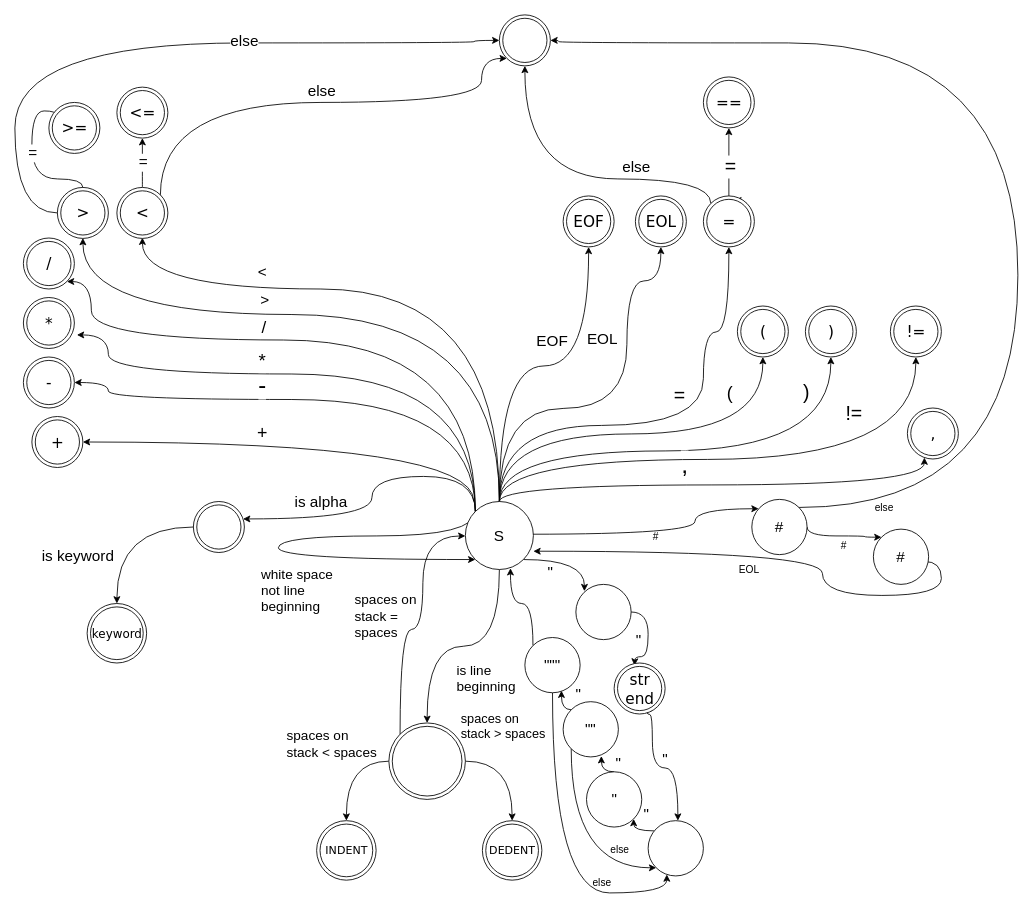
The diagram is 1033 pixels wide and 908 high, and some of its shapes have lost their labels. Each missing label, with the centre of its shape:
"ERROR" goes at pixel 524 40.
"ID" goes at pixel 218 526.
"indentation check" goes at pixel 426 760.
"multi comment" goes at pixel 675 848.
"str start" goes at pixel 603 612.
